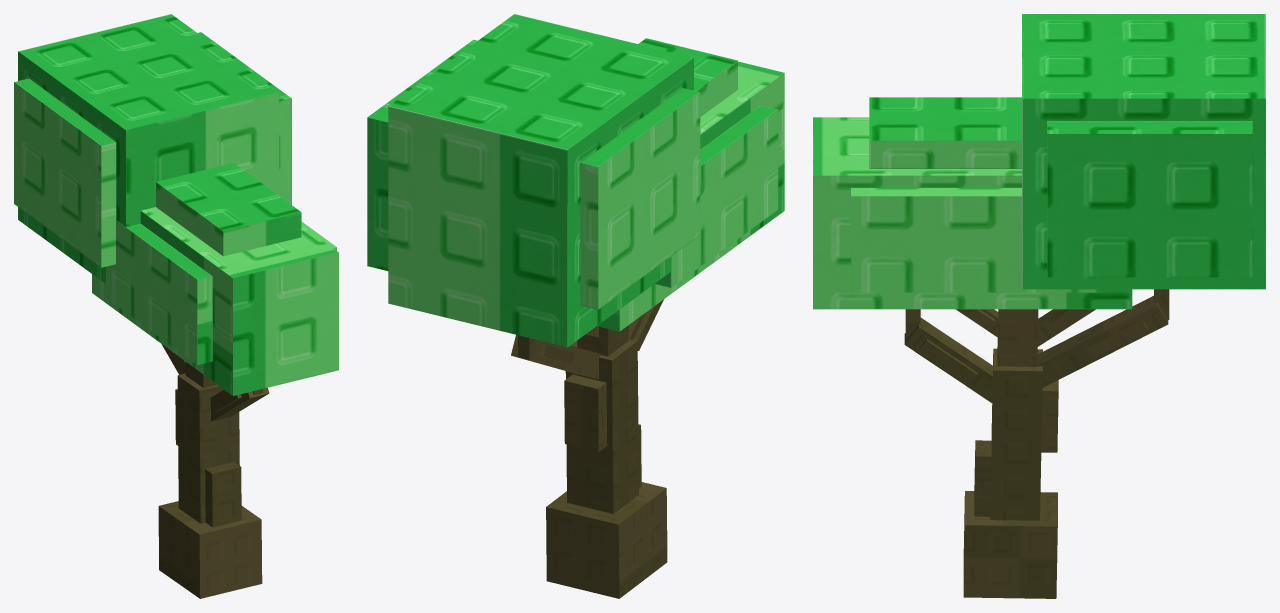
File: tree_1.fbx
3 renders of one model, left to right at view 1: azimuth 30°, elevation 25°; view 2: azimuth 150°, elevation 25°; view 3: azimuth 270°, elevation 25°, orthographic. The views are drawn at different scales.
Parts seen in each view (by area): view 1: Leaf_4, Leaf_1, Leaf_5, Leaf_2.003, Trunk, Root, Branch_1; view 2: Leaf_4, Leaf_5, Trunk, Root, Leaf_2.003, Leaf_1, Branch_3, Branch_1; view 3: Leaf_4, Leaf_1, Leaf_3, Trunk, Root, Branch_3, Branch_1, Branch_4, Branch_2.
Boxes of the visible parts, <box> form: Leaf_4: <box>18,14,291,283</box>; Leaf_1: <box>92,163,338,395</box>; Leaf_5: <box>14,78,116,267</box>; Leaf_2.003: <box>106,220,212,364</box>; Trunk: <box>175,362,241,527</box>; Root: <box>158,501,262,598</box>; Branch_1: <box>210,387,269,421</box>; Leaf_4: <box>367,14,693,347</box>; Leaf_5: <box>580,88,700,309</box>; Trunk: <box>564,325,641,513</box>; Root: <box>546,482,667,598</box>; Leaf_2.003: <box>655,105,778,287</box>; Leaf_1: <box>597,38,784,331</box>; Branch_3: <box>511,335,601,379</box>; Branch_1: <box>628,299,663,350</box>; Leaf_4: <box>1022,14,1265,289</box>; Leaf_1: <box>813,97,1132,309</box>; Leaf_3: <box>851,188,1105,292</box>; Trunk: <box>974,309,1058,520</box>; Root: <box>963,491,1057,598</box>; Branch_3: <box>1037,289,1169,387</box>; Branch_1: <box>904,309,992,403</box>; Branch_4: <box>1037,309,1095,346</box>; Branch_2: <box>956,309,998,337</box>.
Size of the model in its own units: 5.57 by 12.81 by 10.03.
1 material, 1 textured.
